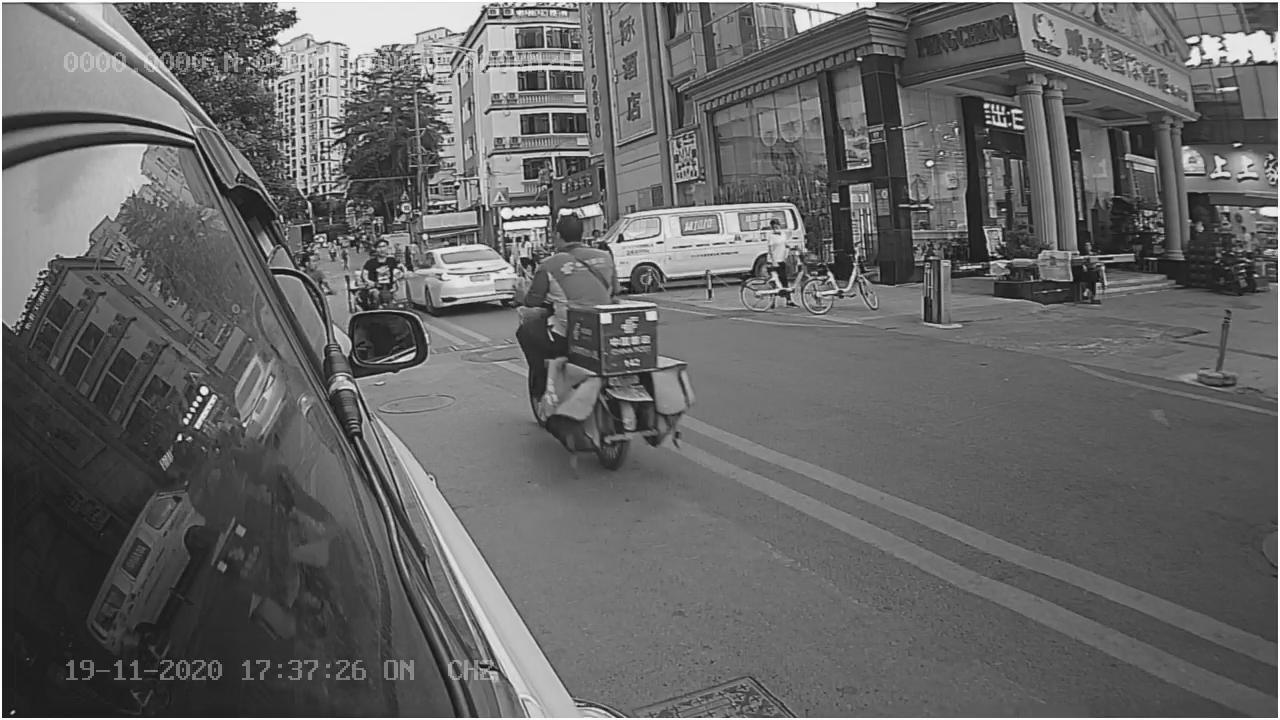person: (523, 217, 618, 299)
